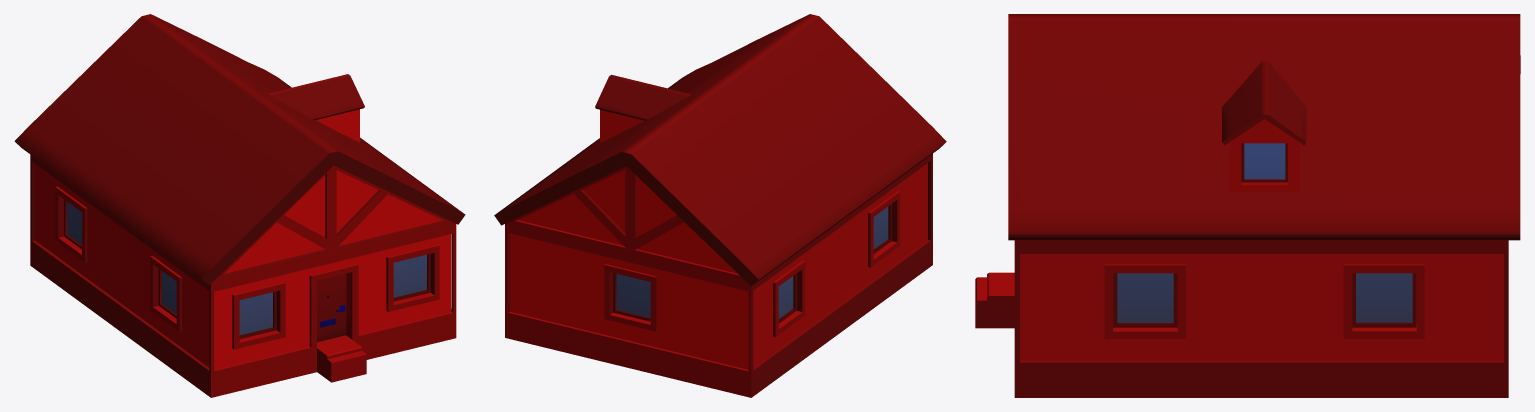
File: buildings-residential-familyhome_v3.fbx
3 views of the same model, side by side, from view 1: azimuth 30°, elevation 25°; view 2: azimuth 150°, elevation 25°; view 3: azimuth 270°, elevation 25° (orthographic). The views are drawn at different scales.
Visible parts, largest first — view 1: FamilyHome_v3_base, FamilyHome_v3_windowRefl; view 2: FamilyHome_v3_base, FamilyHome_v3_windowRefl; view 3: FamilyHome_v3_base, FamilyHome_v3_windowRefl.
Part boxes in pixels (x1,y1,x2,y2): FamilyHome_v3_base: [14, 14, 465, 397]; FamilyHome_v3_windowRefl: [67, 202, 426, 335]; FamilyHome_v3_base: [494, 14, 946, 397]; FamilyHome_v3_windowRefl: [616, 206, 888, 318]; FamilyHome_v3_base: [975, 14, 1520, 397]; FamilyHome_v3_windowRefl: [1117, 143, 1412, 322].
Bounding box in the file's own units: 9.62 × 7.6 × 12.62.
